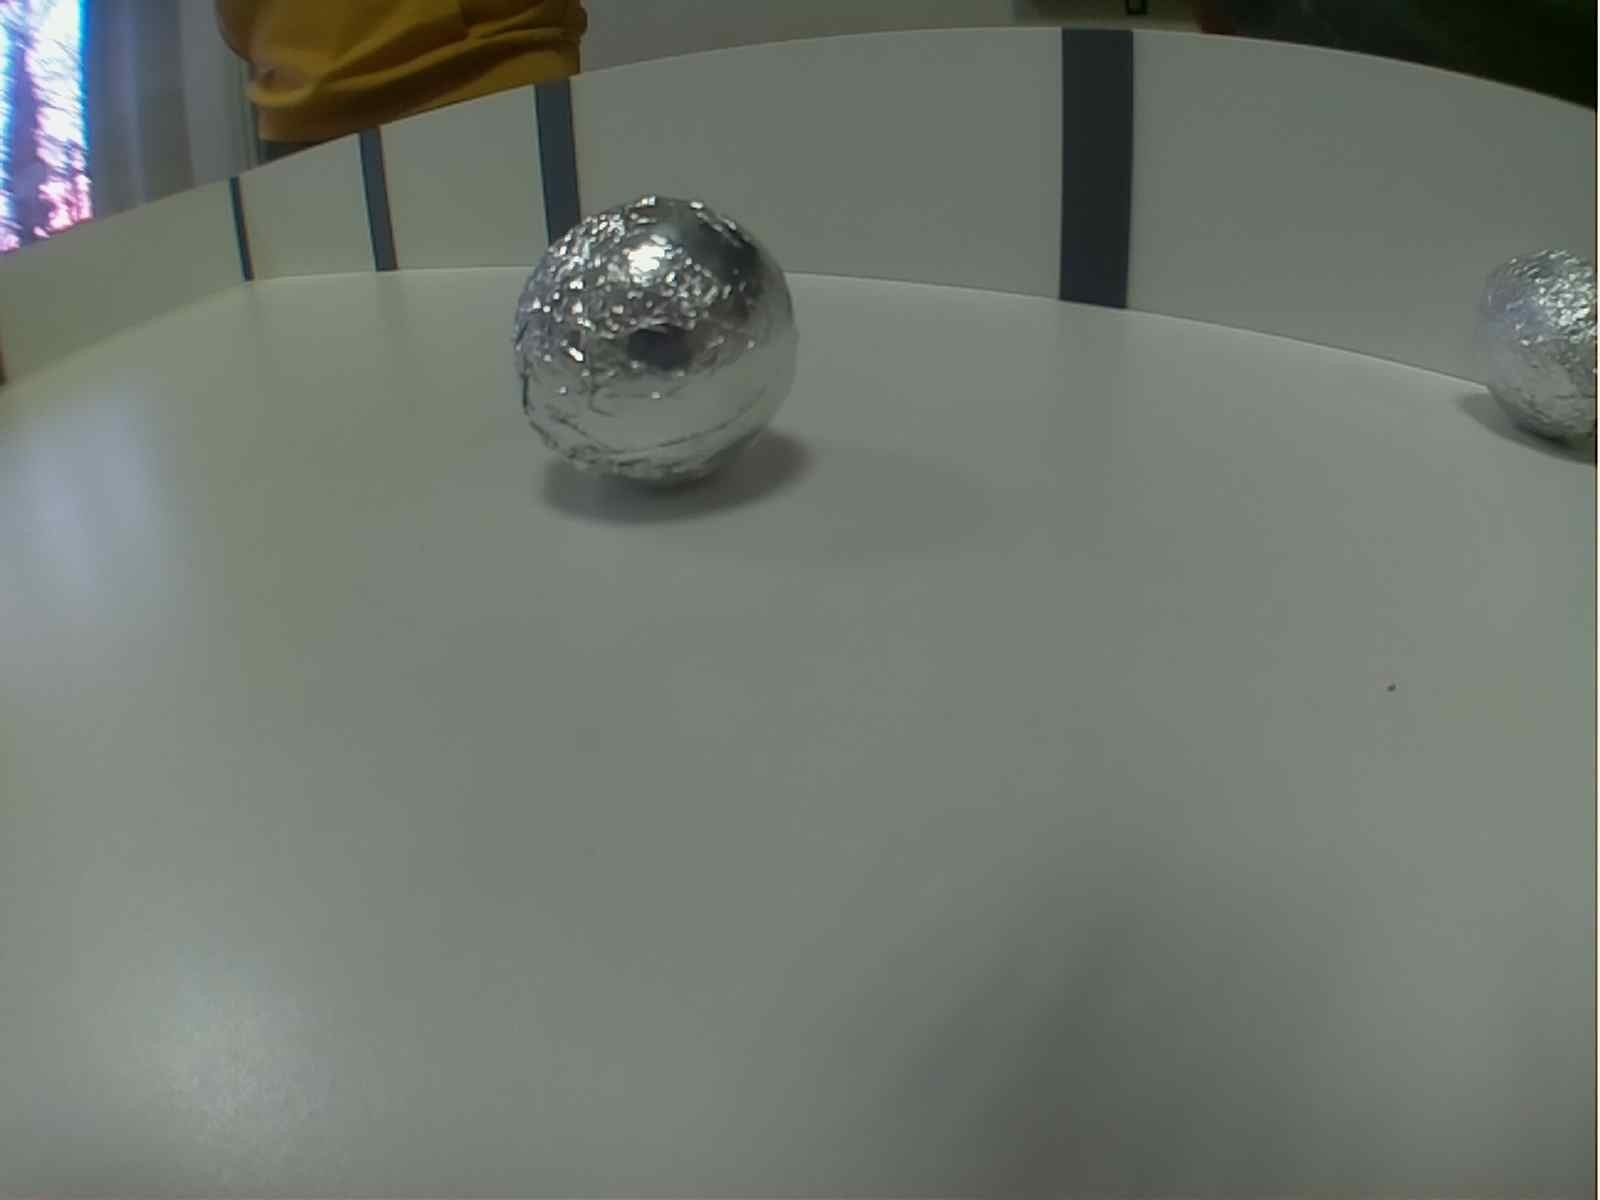bianca: (511, 187, 806, 497), (1468, 238, 1600, 447)
